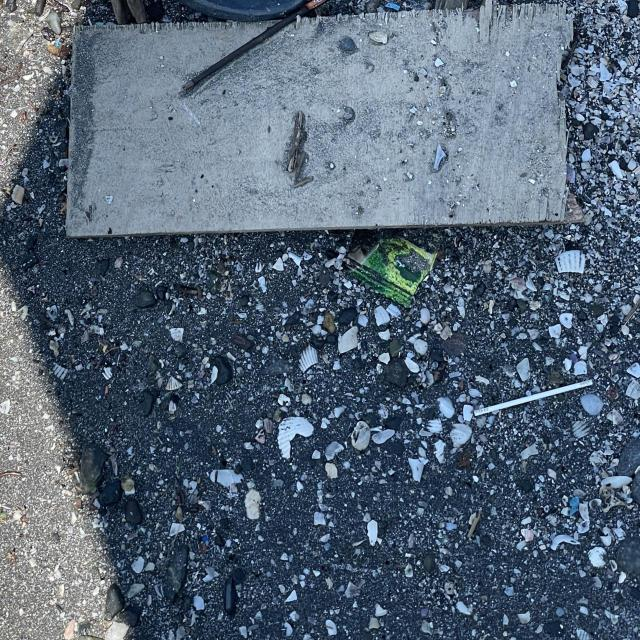plastic_waste: (469, 374, 596, 432), (349, 239, 436, 311)
wood_waste: (65, 22, 579, 237)
